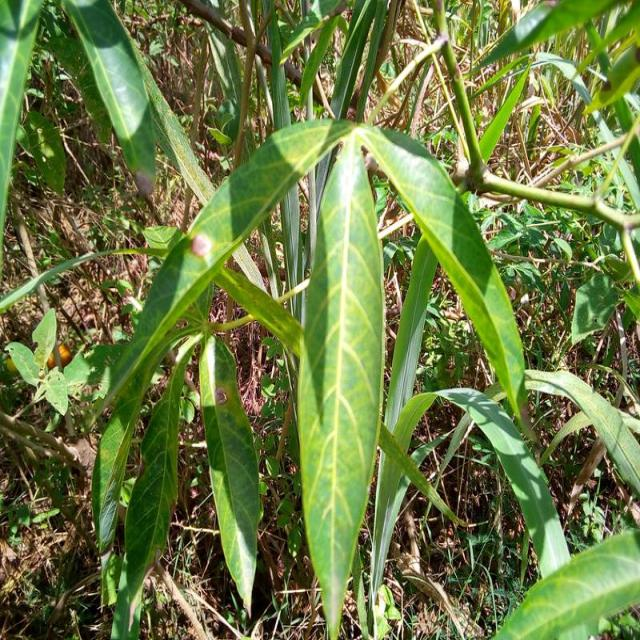cassava leaf: (294, 130, 385, 637), (197, 332, 262, 618)
